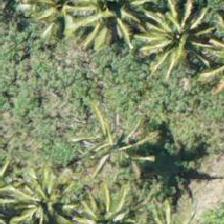coconut_tree: (73, 102, 163, 192), (137, 0, 223, 81), (0, 156, 79, 223), (55, 0, 145, 51)
